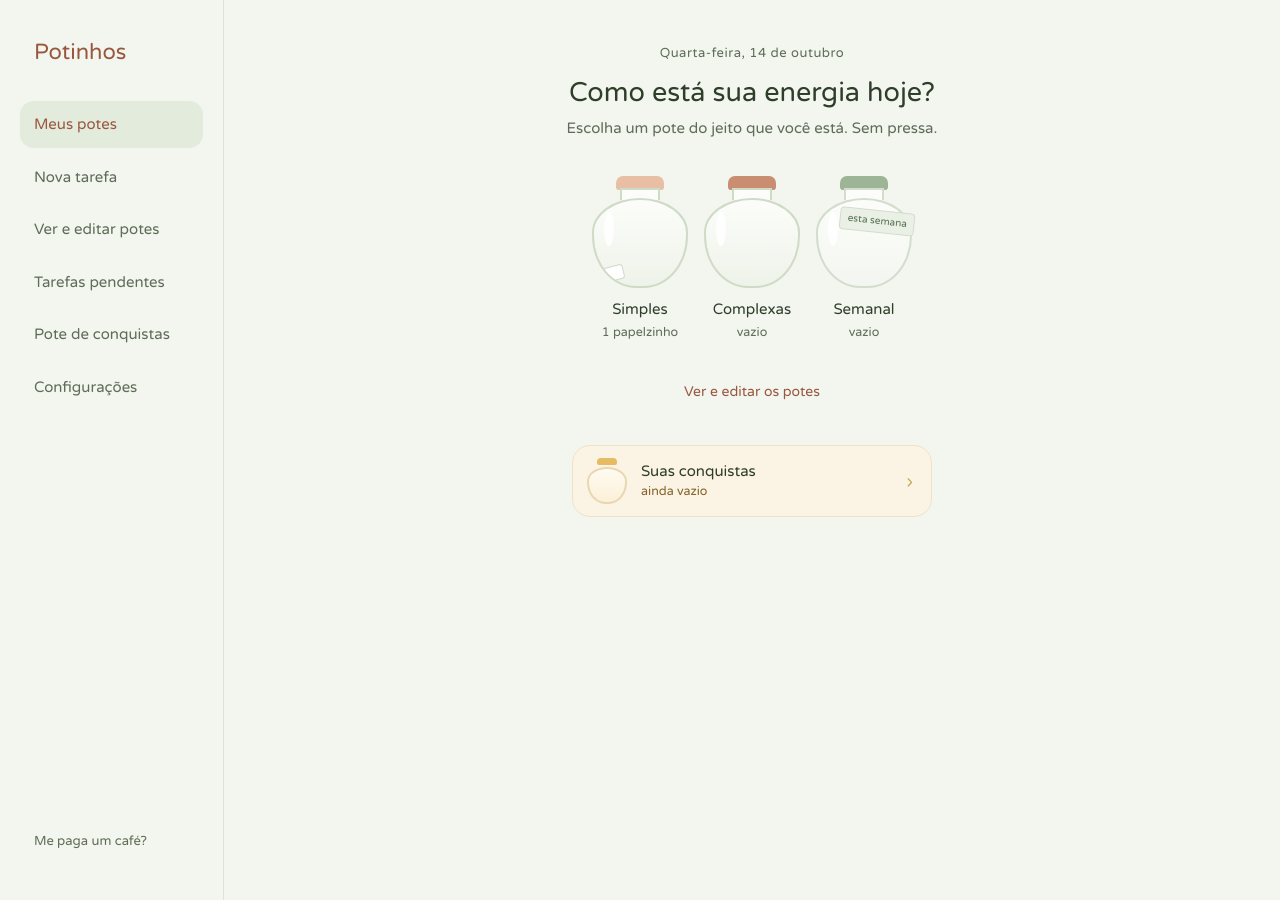
Test: NotDone › offers to return, move or keep the slip as pending
Expected: the heading "Como está sua energia hoje?" is shown, [569,76,935,108]
Click the button with aria-label "Pote " at (640, 259), box [592,176,688,343]
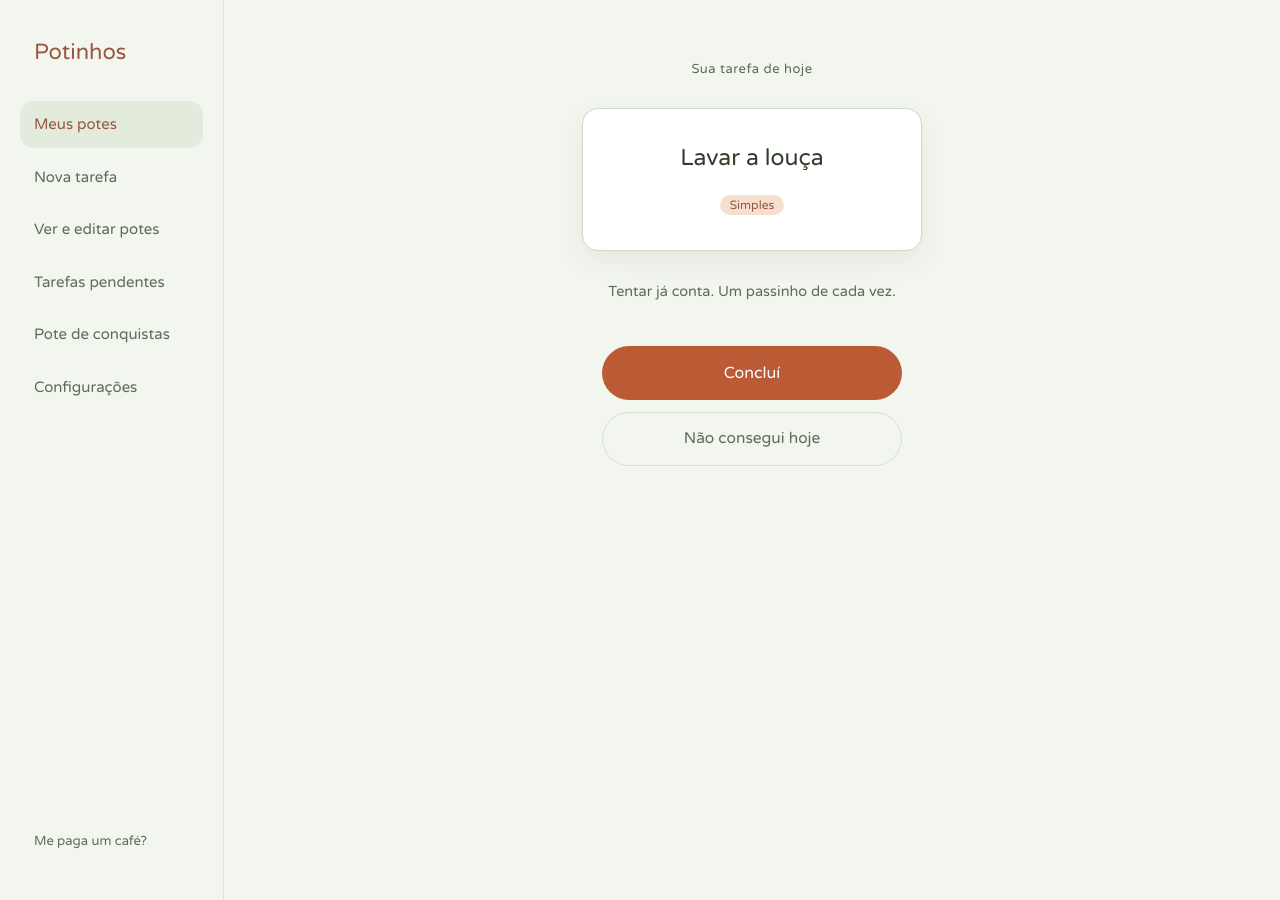
Expected: the heading "Sua tarefa de hoje" is shown, [691,61,812,77]
Click the button "Não consegui hoje" at (752, 439), box [602,412,902,466]
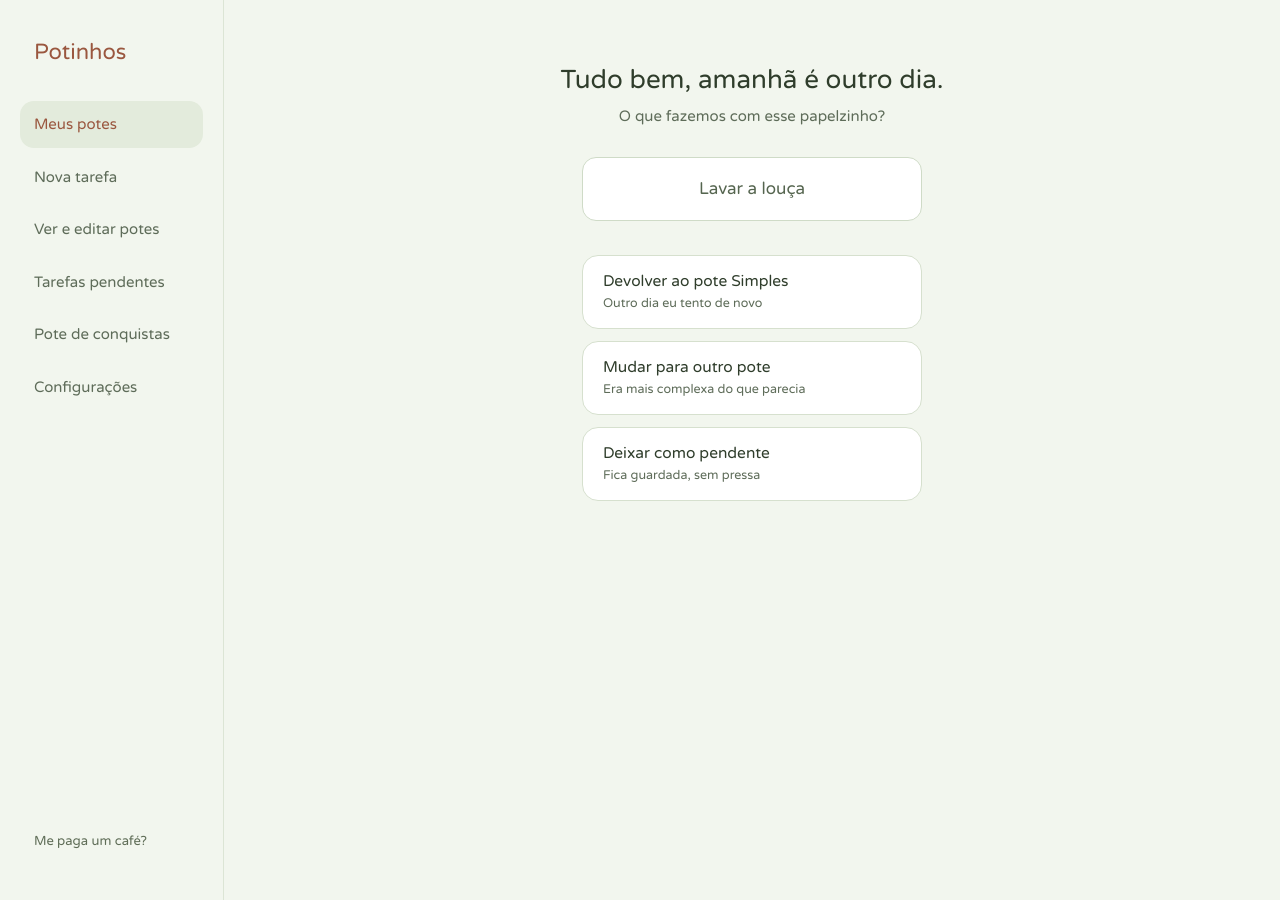
Expected: the text "Lavar a louça" is shown, [582,157,922,220]
Expected: the heading "Tudo bem, amanhã é outro dia." is shown, [560,64,944,95]
Expected: the button "Devolver ao pote Simples Outro dia eu tento de novo" is shown, [582,254,922,328]
